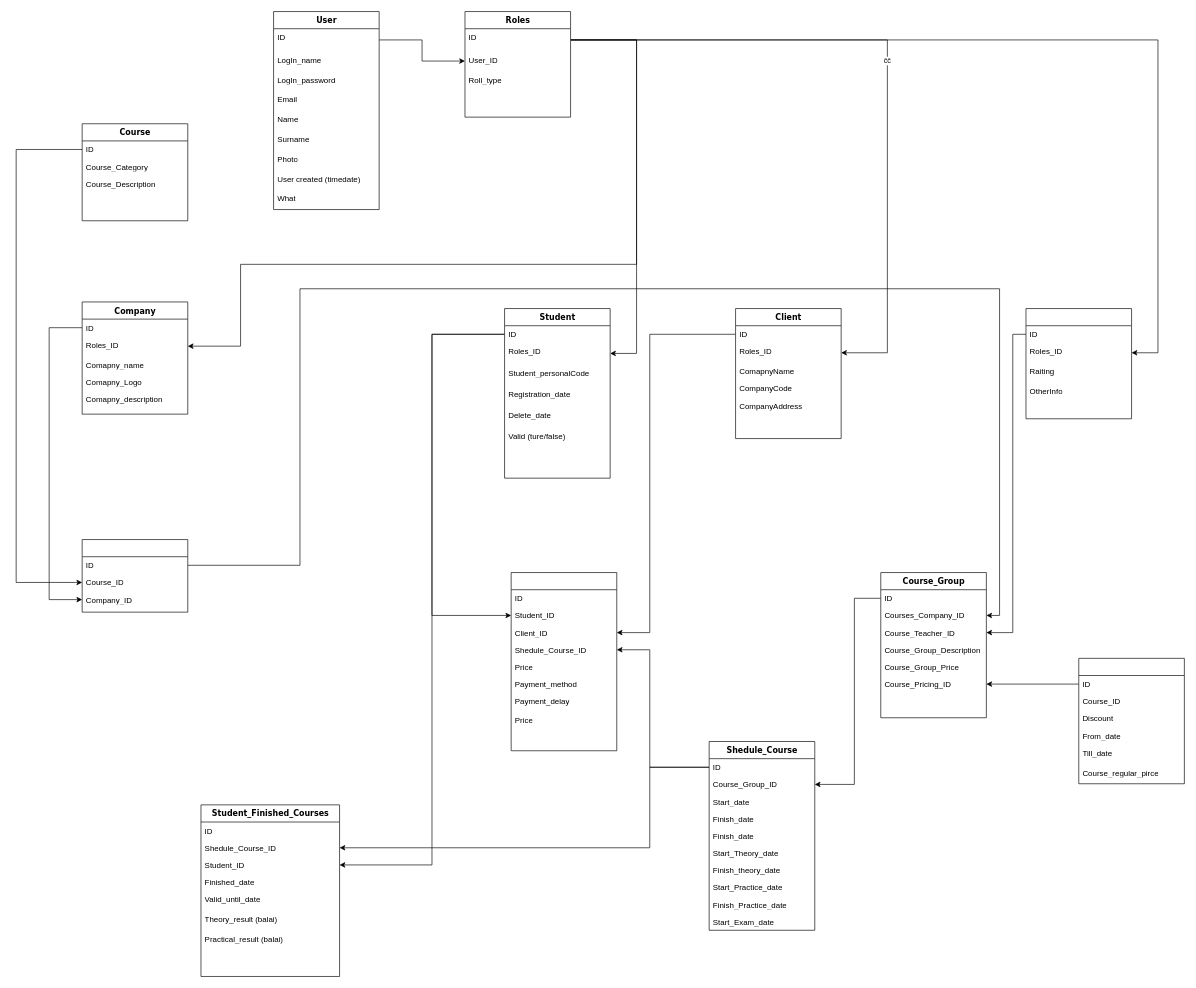
This 1196x988 diagram has some shape labels left out. Here are the shapes that lost their labels. From the top down, the box of each, then its label:
(1025, 308, 1132, 419): Teacher
(82, 539, 188, 612): Courses_Company
(511, 572, 617, 751): Contract_Student
(1078, 658, 1184, 784): Pricing
